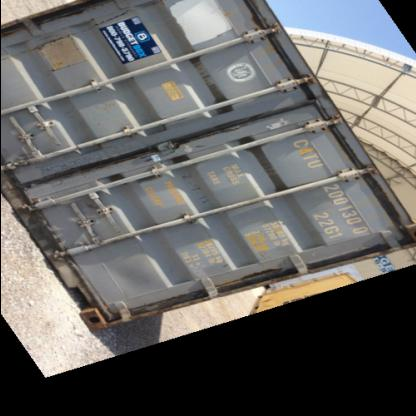Damage: (15, 23, 92, 77), (219, 2, 281, 61), (16, 154, 137, 178), (184, 163, 214, 211), (235, 266, 284, 288), (72, 194, 104, 212)
